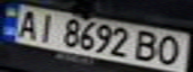2: (109, 25, 136, 60)
6: (75, 19, 96, 52)
8: (57, 16, 84, 48)
9: (93, 21, 115, 55)
A: (12, 7, 42, 39)
B: (133, 28, 163, 63)
I: (30, 11, 60, 43)
O: (151, 33, 187, 66)
